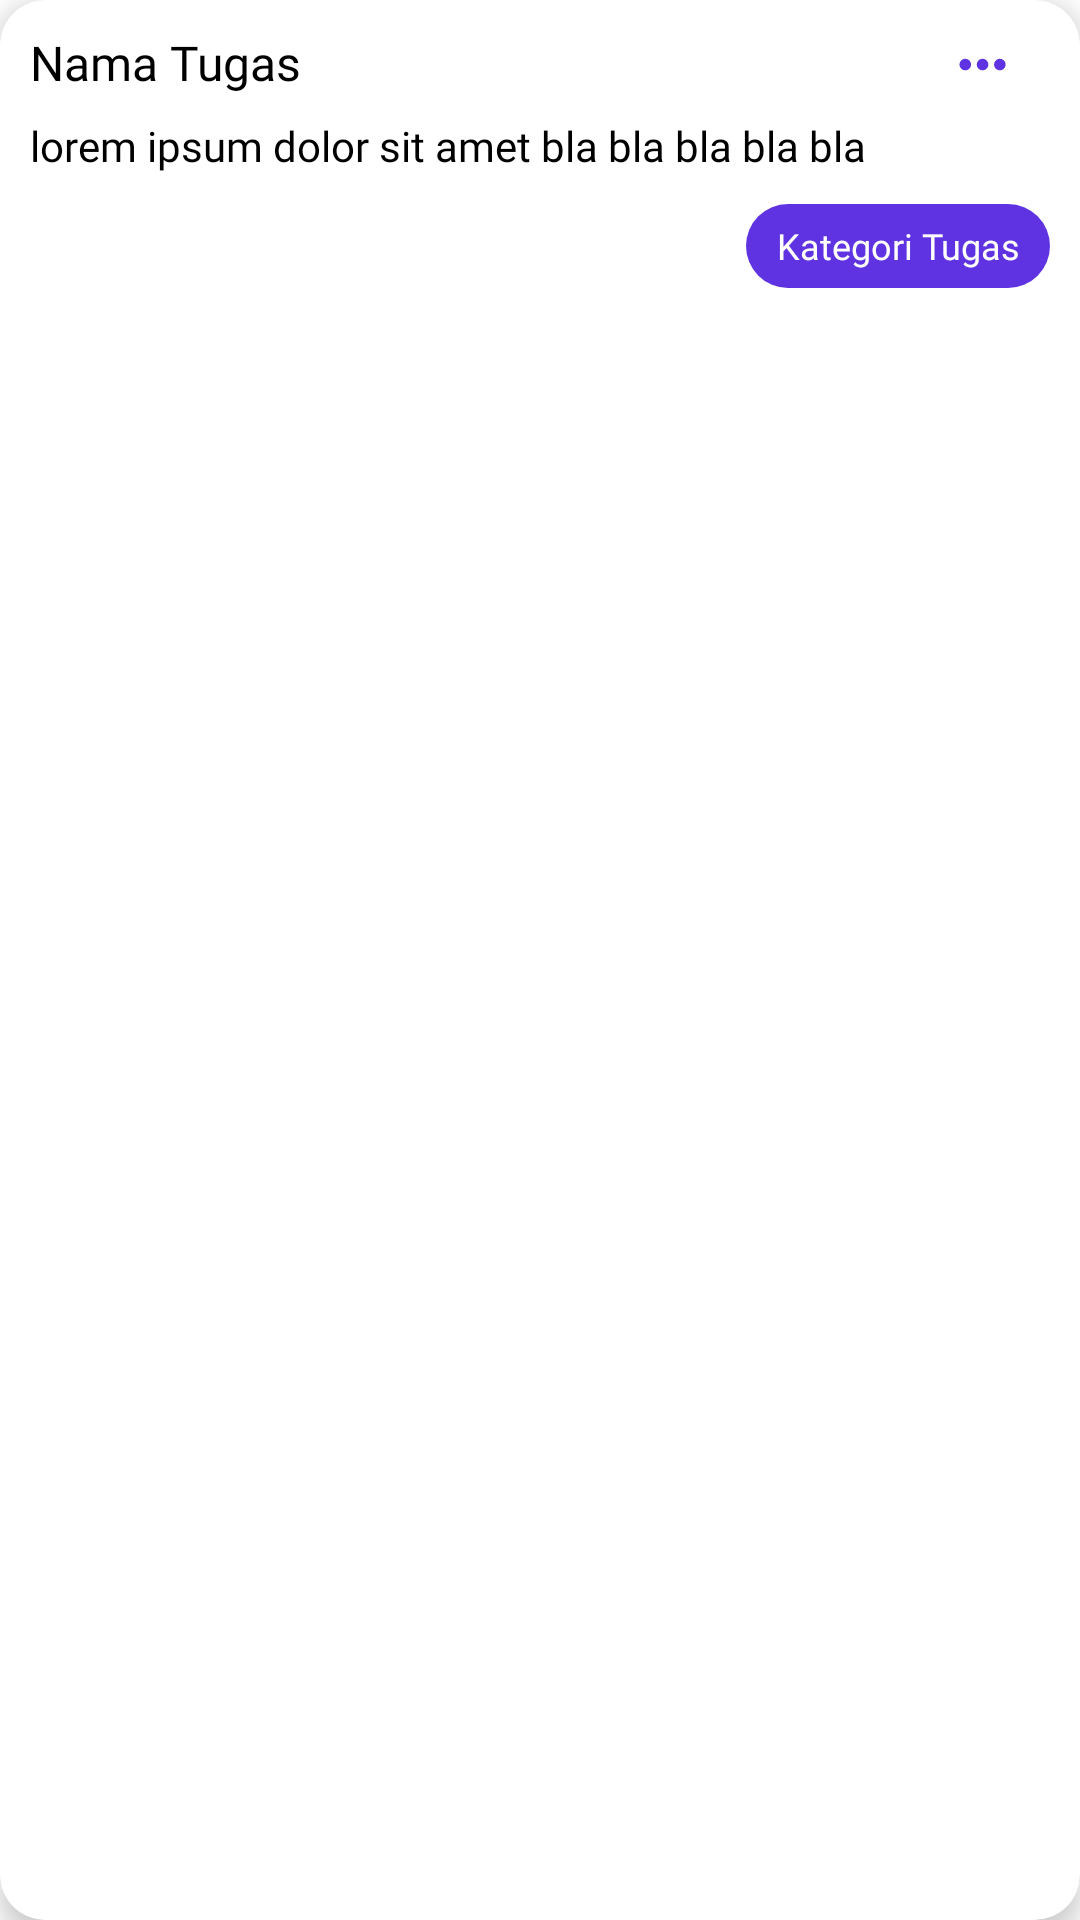

Icons on this 1080 × 1920 Android screen, each with the point to tap as (x=x, y=y):
more: (x=982, y=64)
